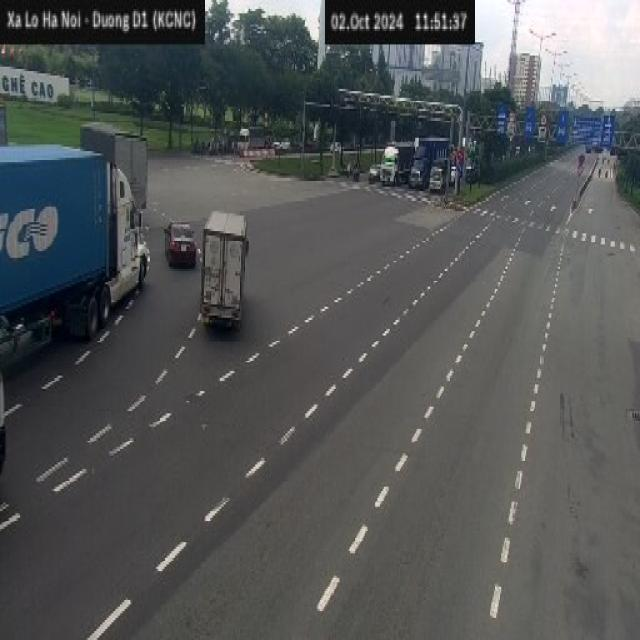car: (162, 220, 196, 267)
container-truck: (0, 133, 150, 364)
truck: (199, 209, 249, 331)
